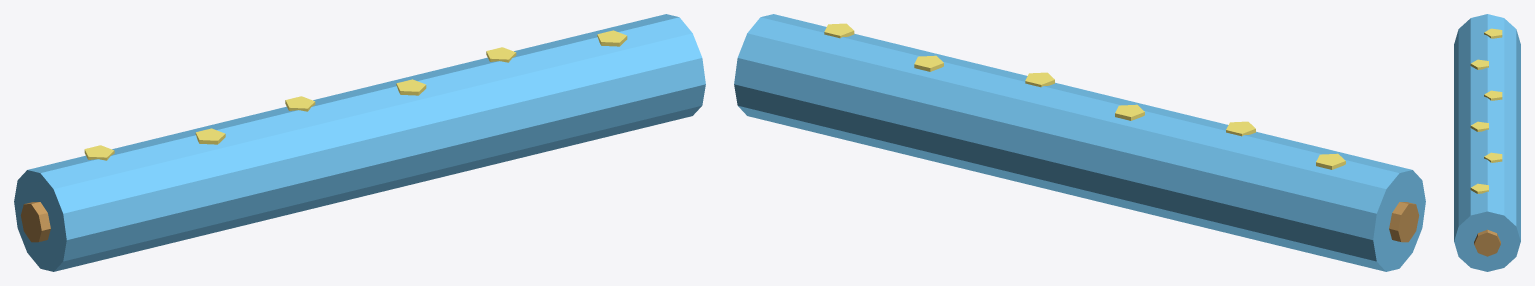
The model's file is wrapping_roll.glb.
3 renders of one model, left to right at view 1: azimuth 30°, elevation 25°; view 2: azimuth 150°, elevation 25°; view 3: azimuth 270°, elevation 25°, orthographic. The views are drawn at different scales.
Parts seen in each view (by area): view 1: roll_wrapping_paper, ends_wrapping_tube; view 2: roll_wrapping_paper, ends_wrapping_tube; view 3: roll_wrapping_paper, stars_wrapping_star (×6), ends_wrapping_tube.
Boxes of the visible parts, x1,y1,x2,y2 form: roll_wrapping_paper: [14, 14, 705, 271]; ends_wrapping_tube: [20, 202, 50, 242]; roll_wrapping_paper: [734, 14, 1425, 271]; ends_wrapping_tube: [1389, 202, 1419, 242]; roll_wrapping_paper: [1454, 14, 1520, 271]; stars_wrapping_star (×6): [1470, 28, 1502, 193]; ends_wrapping_tube: [1474, 229, 1500, 256].
Bounding box in the file's own units: 0.72 × 0.102 × 0.1.
